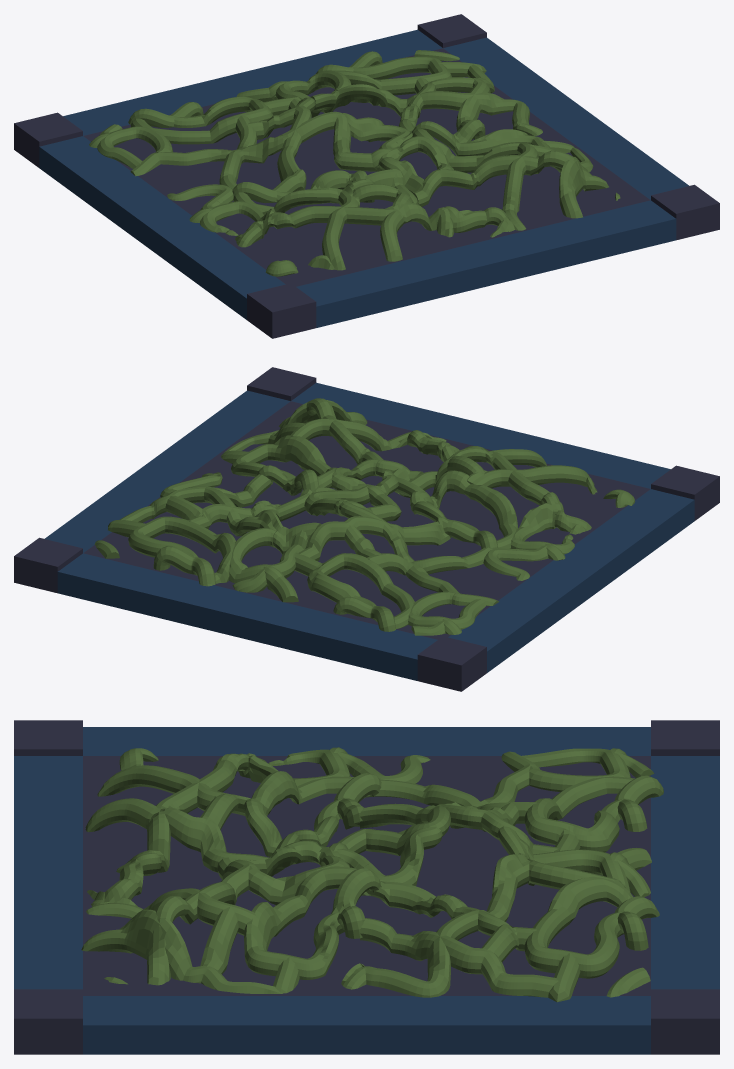
File: 3D_TrappolaRadici.fbx
The picture shows the model from 3 angles, top to bottom: view 1: azimuth 30°, elevation 25°; view 2: azimuth 150°, elevation 25°; view 3: azimuth 270°, elevation 25°; orthographic projection. The views are drawn at different scales.
Parts seen in each view (by area): view 1: Radici, BAse, BAse.002; view 2: Radici, BAse, BAse.002; view 3: Radici, BAse, BAse.002.
Boxes of the visible parts, x1,y1,x2,y2 form: Radici: (89,50,620,276); BAse: (39,29,689,327); BAse.002: (14,14,719,338); Radici: (94,398,635,635); BAse: (44,382,694,680); BAse.002: (14,367,719,691); Radici: (81,747,663,1002); BAse: (14,727,719,1054); BAse.002: (14,720,719,1054).
Size of the model in its own units: 304 by 40.34 by 304.
